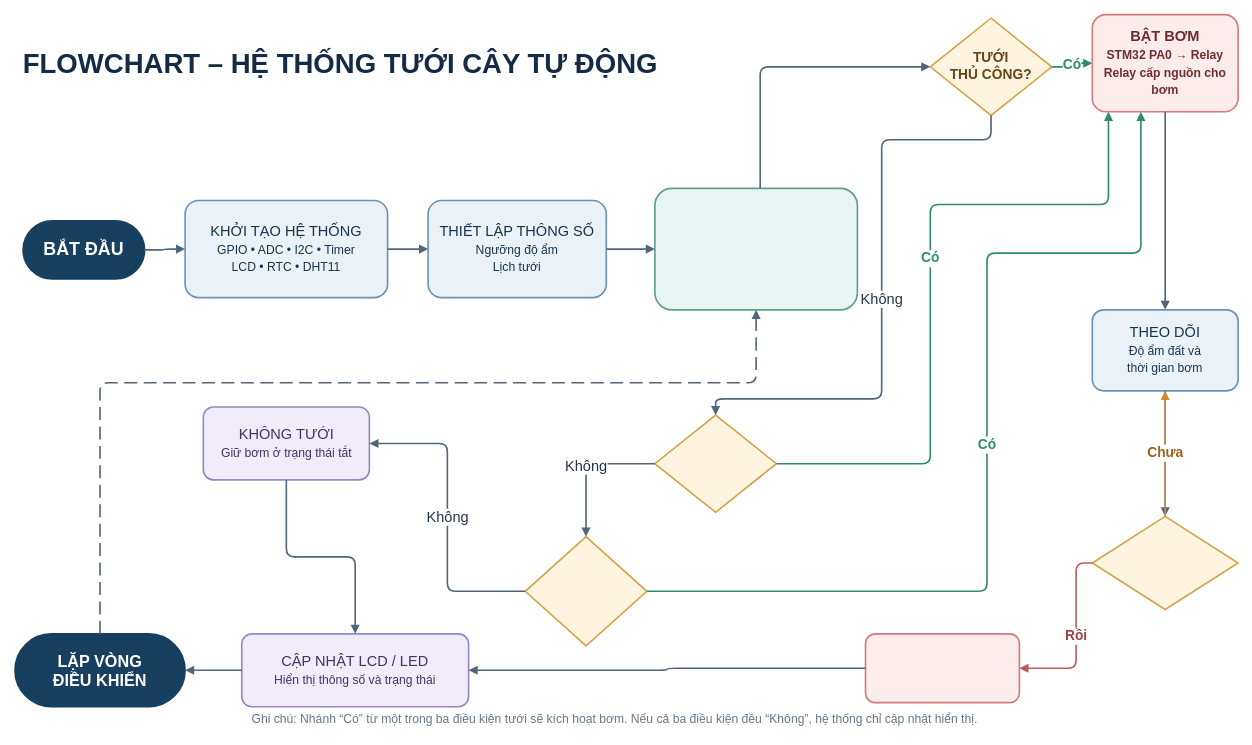
Some shapes in this 1252 by 745 pixel diagram are drawn without their labels. Here are the shapes that lost their labels. From the top down, the centre of each, then its label:
At point (756, 248): "ĐỌC DỮ LIỆU Độ ẩm đất (ADC) Nhiệt độ/độ ẩm (DHT11) Thời gian (RTC)".
At point (715, 463): "ĐẾN GIỜ TƯỚI?".
At point (1164, 562): "ĐỦ ẨM HOẶC ĐẠT 60 GIÂY?".
At point (585, 590): "ĐỘ ẨM ĐẤT THẤP HƠN NGƯỠNG?".
At point (942, 668): "TẮT BƠM Ngắt tín hiệu relay".
